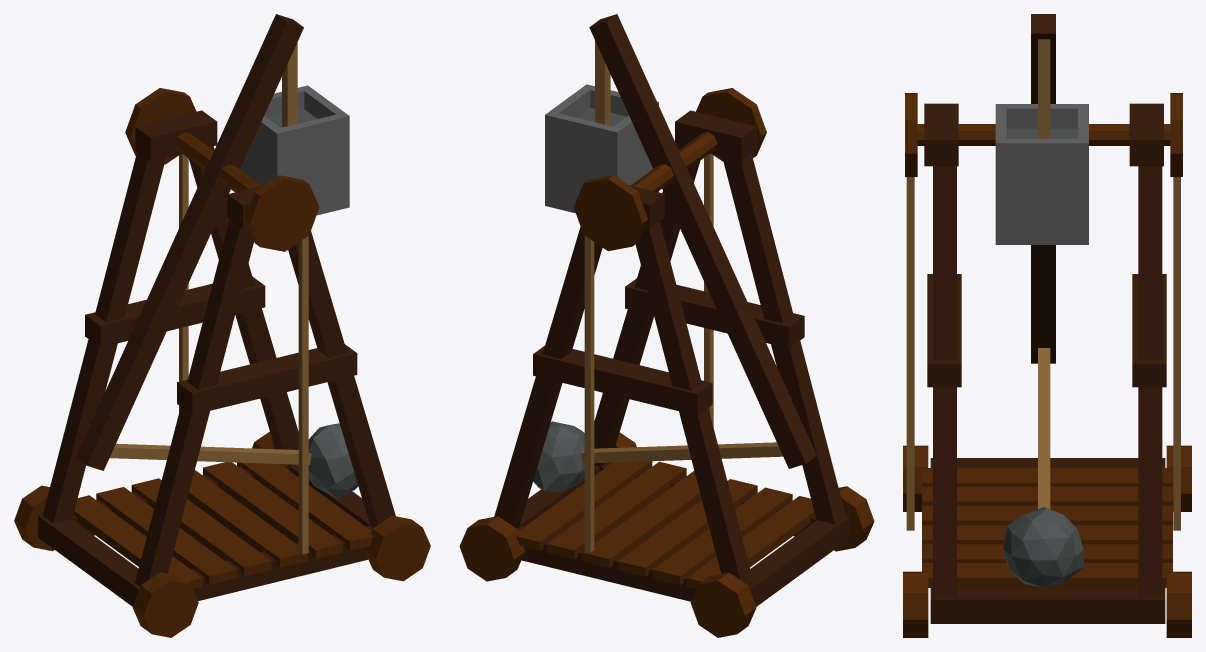
The model's file is Trebuchet.fbx.
3 renders of one model, left to right at view 1: azimuth 30°, elevation 25°; view 2: azimuth 150°, elevation 25°; view 3: azimuth 270°, elevation 25°, orthographic. The views are drawn at different scales.
Visible parts, largest first — view 1: Cube.4071, Cube.4066, Cube.4067, Cylinder.380, Cylinder.381, Cylinder.382, Cube.4061, Icosphere.142, Cube.4069; view 2: Cube.4071, Cube.4066, Cube.4067, Cylinder.380, Cylinder.381, Cylinder.382, Cube.4061, Icosphere.142, Cube.4069; view 3: Cube.4071, Cube.4067, Icosphere.142, Cube.4061, Cube.4066, Cylinder.380, Cylinder.382, Cube.4069, Cylinder.381.
Boxes of the visible parts, x1,y1,x2,y2 form: Cube.4071: (38, 146, 395, 606); Cube.4066: (75, 14, 303, 470); Cube.4067: (235, 42, 349, 215); Cylinder.380: (125, 88, 319, 251); Cylinder.381: (14, 485, 198, 637); Cylinder.382: (252, 431, 430, 581); Cube.4061: (135, 110, 263, 228); Icosphere.142: (308, 423, 358, 498); Cube.4069: (109, 443, 311, 464); Cube.4071: (494, 146, 850, 606); Cube.4066: (589, 14, 816, 468); Cube.4067: (545, 40, 658, 213); Cylinder.380: (573, 88, 766, 251); Cylinder.381: (690, 486, 874, 637); Cylinder.382: (459, 432, 636, 581); Cube.4061: (629, 110, 756, 228); Icosphere.142: (533, 421, 584, 492); Cube.4069: (580, 442, 782, 463); Cube.4071: (906, 166, 1180, 623); Cube.4067: (995, 39, 1088, 244); Icosphere.142: (1003, 507, 1084, 587); Cube.4061: (924, 103, 1163, 166); Cube.4066: (1031, 14, 1055, 363); Cylinder.380: (905, 93, 1182, 176); Cylinder.382: (903, 571, 1191, 637); Cube.4069: (1038, 348, 1050, 508); Cylinder.381: (903, 445, 1191, 511).
Bounding box in the file's own units: 113 × 201 × 88.82.
